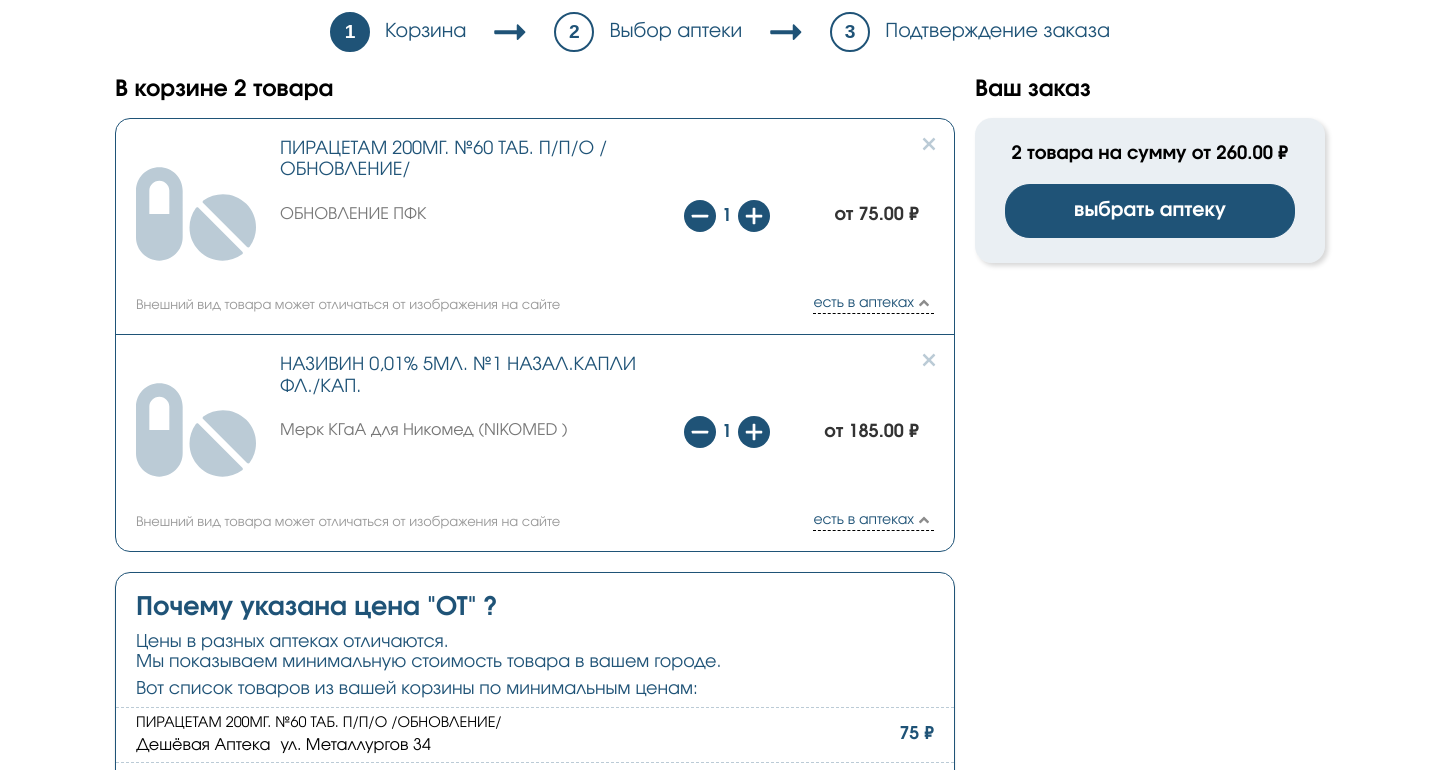
Scenario: Cart › Cart page 3
переходим на 3-ю страницу
Click the button "выбрать аптеку" at {"x": 1150, "y": 211}, box [1005, 184, 1295, 238]
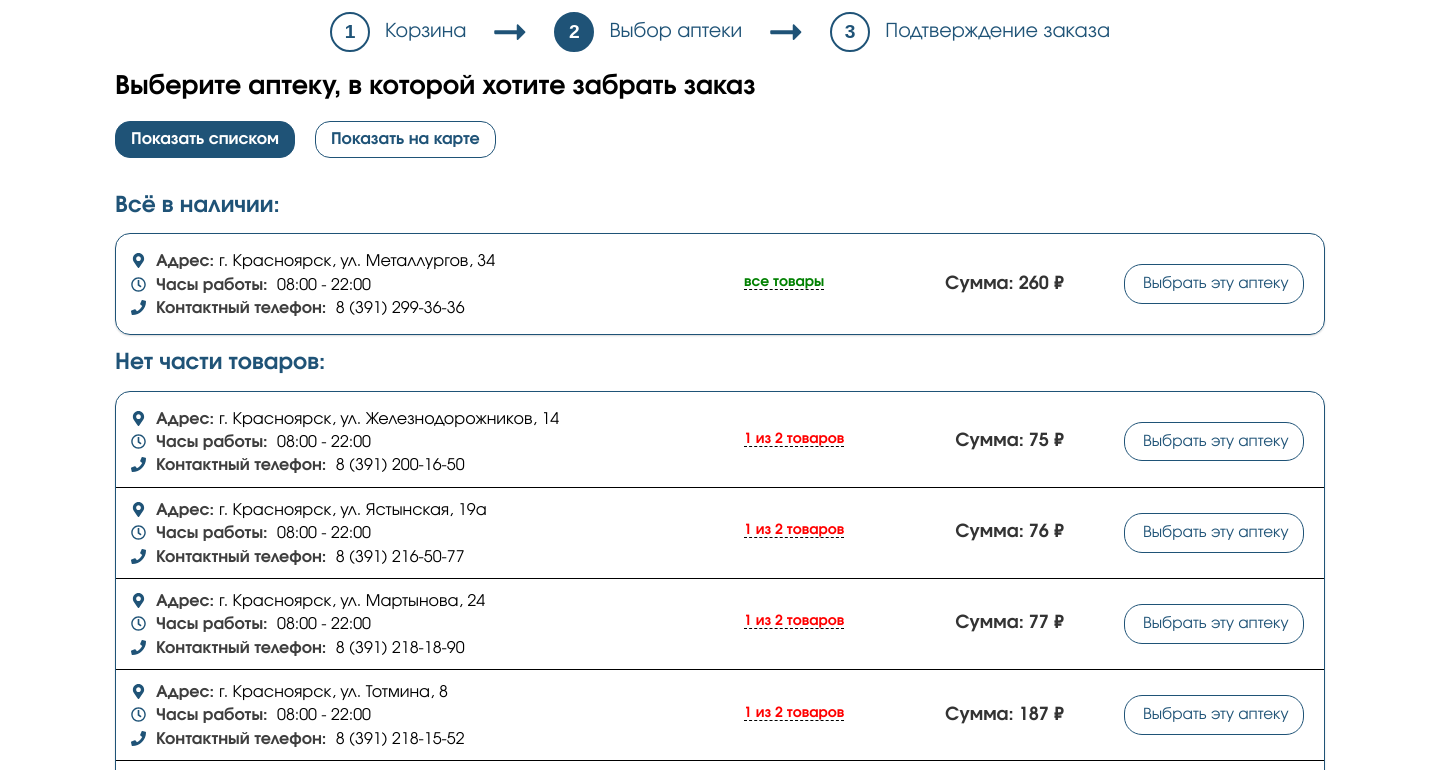
Click the button with class "RetailCheckPanel__button" next to "260" at {"x": 1214, "y": 284}, box [1124, 264, 1304, 304]
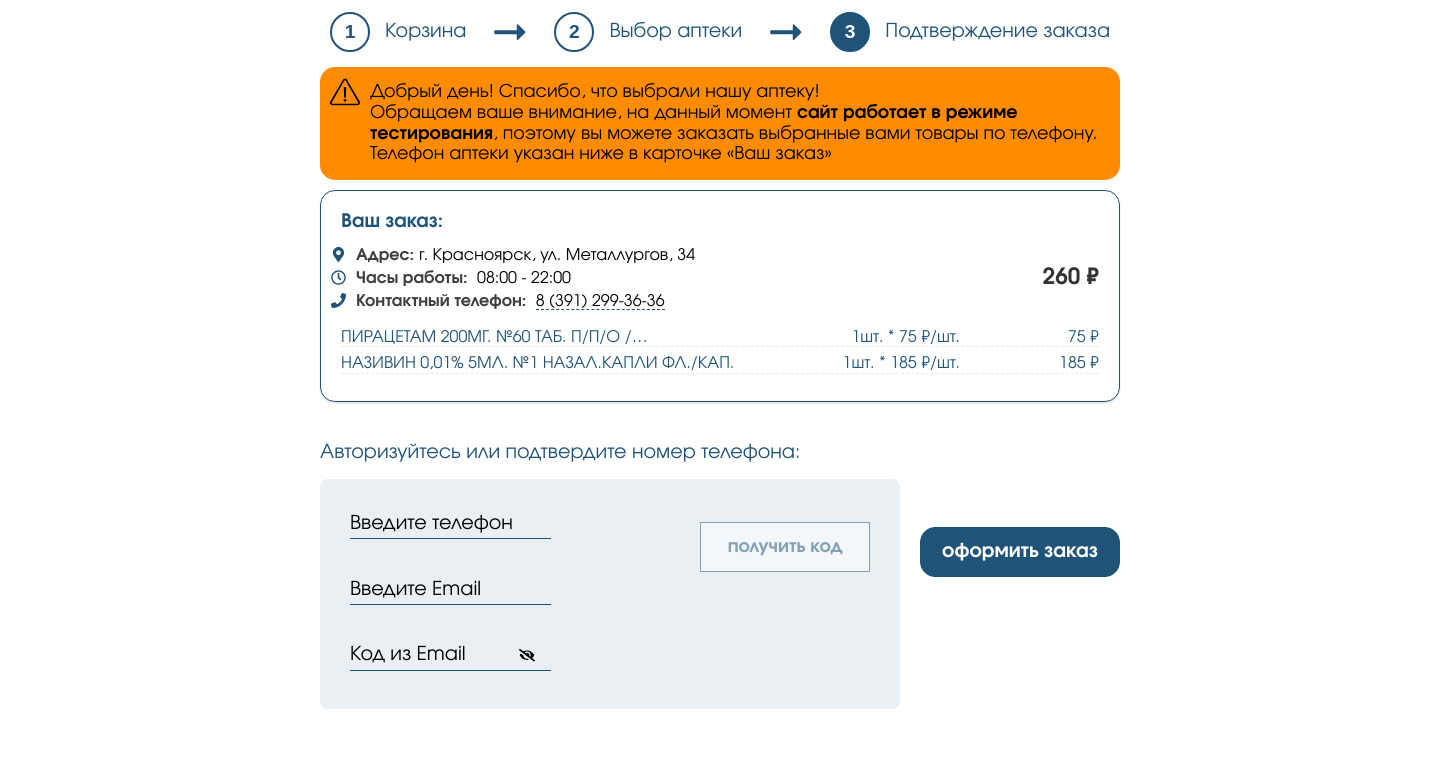
Expected: the text "260 ₽" is shown, [1043, 265, 1099, 291]
переходим на 1-ую страницу
Click the text with class "Cart__pageNumber" showing "1" at {"x": 350, "y": 32}, box [330, 12, 370, 52]
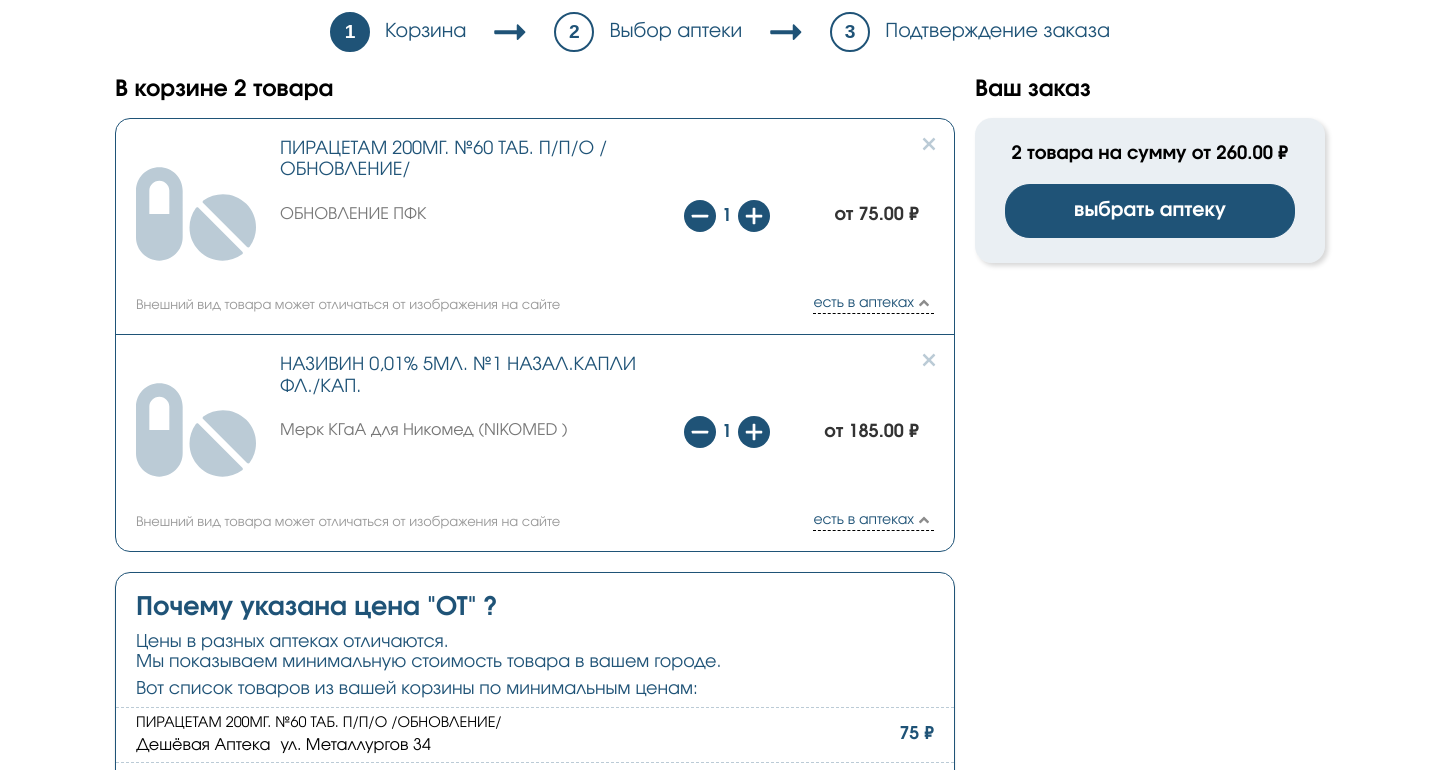
нажимаем на плюс первого товара - добавляя кол. до 2шт.
Click the 1st button with class "CountButton__increment" at {"x": 754, "y": 216}, box [738, 200, 770, 232]
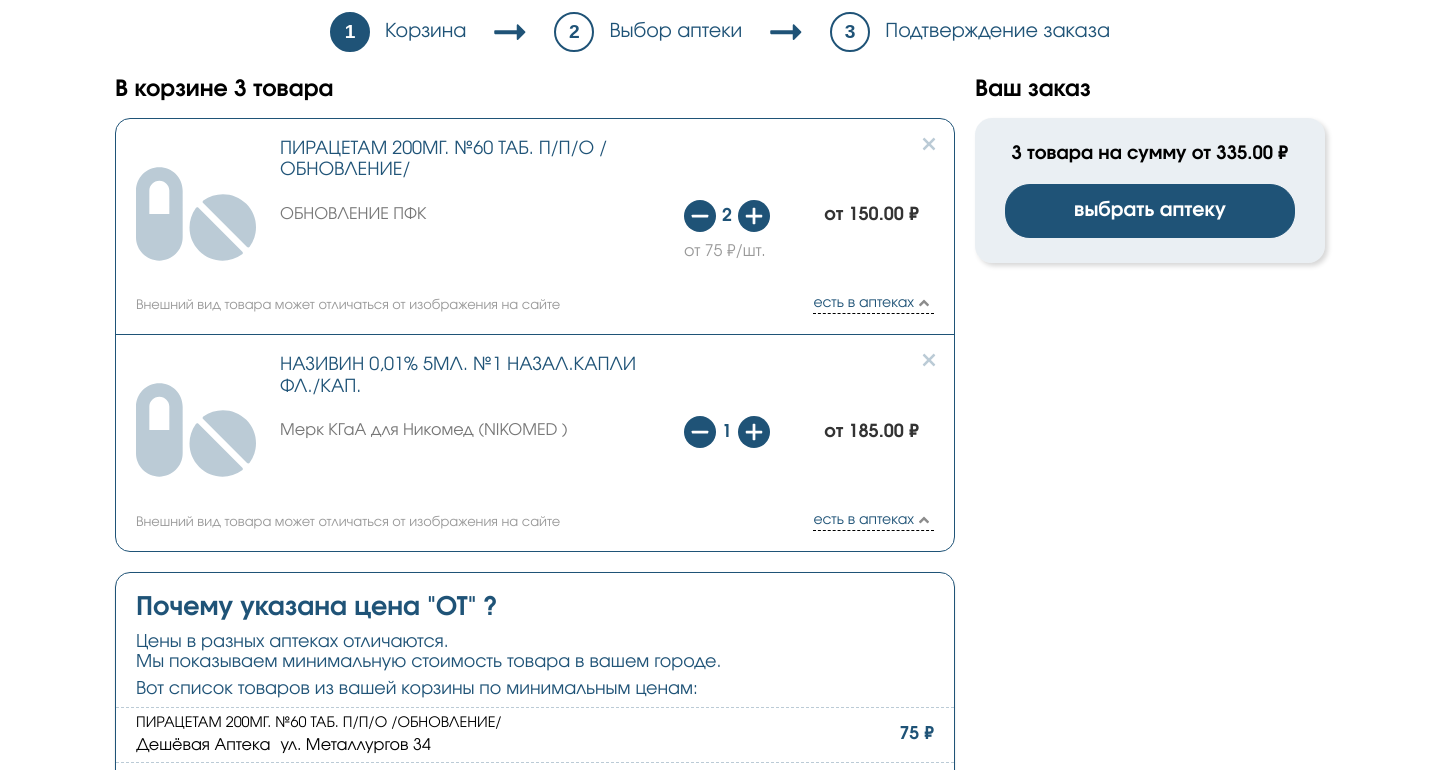
Expected: the text "3 товара на сумму от 335.00 ₽" is shown, [1012, 143, 1288, 164]
переходим на 3-ю стр.
Click the text "Подтверждение заказа" at {"x": 998, "y": 32}, box [885, 21, 1110, 43]
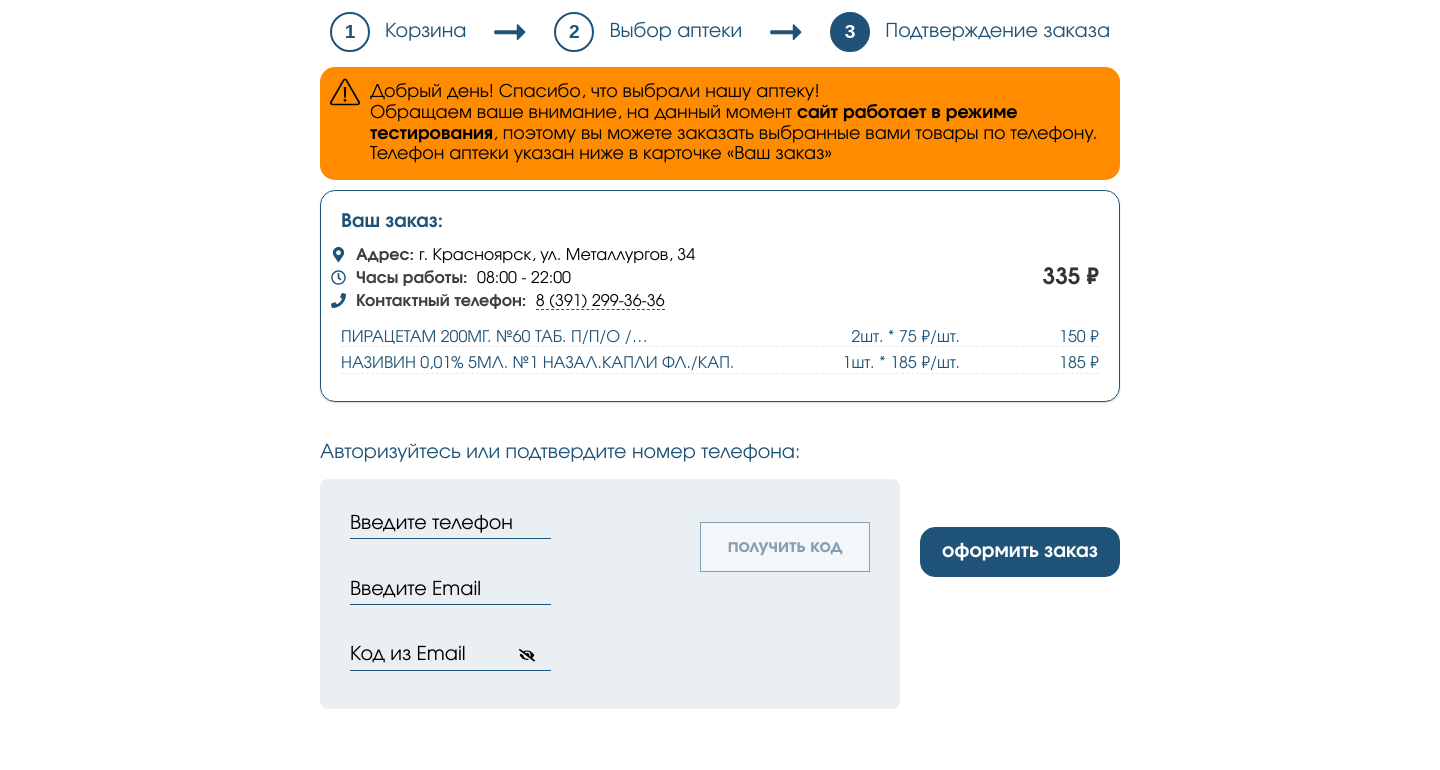
Expected: the text with class "CartOrderPage__sum" reads "335 ₽", [1043, 265, 1099, 291]
